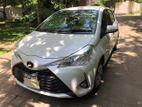car: (10, 4, 117, 103)
